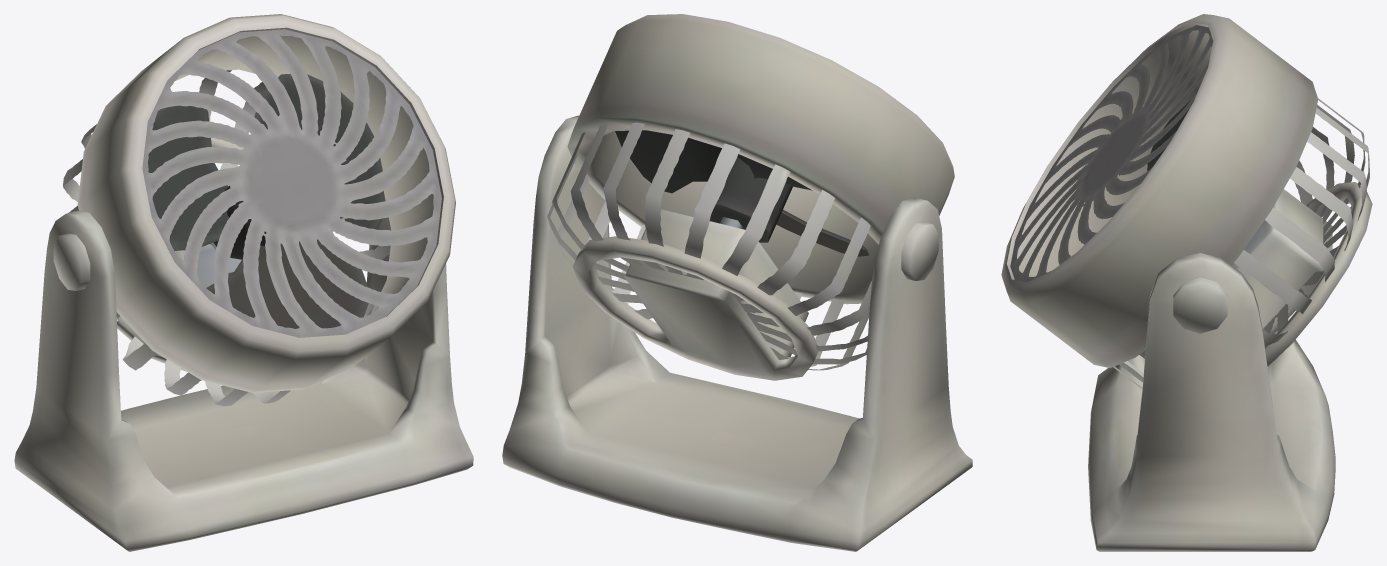
3 renders of one model, left to right at view 1: azimuth 30°, elevation 25°; view 2: azimuth 150°, elevation 25°; view 3: azimuth 270°, elevation 25°, orthographic. The views are drawn at different scales.
Bounding box in the file's own units: 6.42 × 7.57 × 5.83.
1 material, 1 textured.
